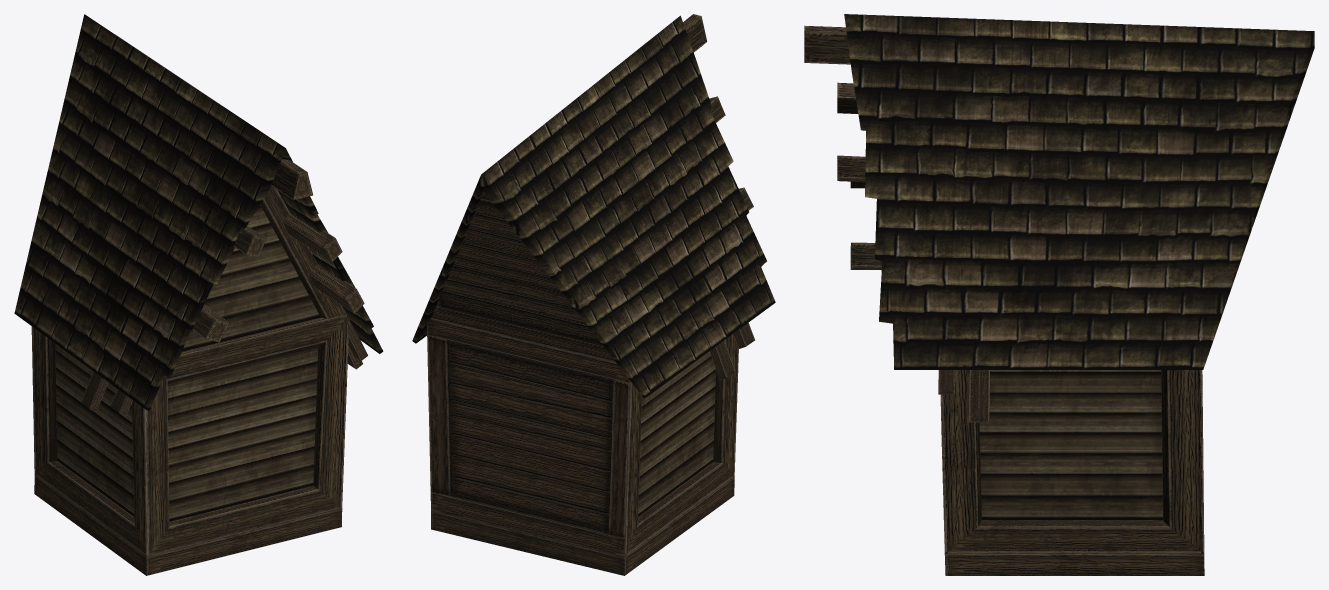
Rendered from Window_c01.fbx.
The picture shows the model from 3 angles, left to right: view 1: azimuth 30°, elevation 25°; view 2: azimuth 150°, elevation 25°; view 3: azimuth 270°, elevation 25°; orthographic projection. The views are drawn at different scales.
Visible parts, largest first — view 1: Window_c01; view 2: Window_c01; view 3: Window_c01.
Boxes of the visible parts, x1,y1,x2,y2 form: Window_c01: [14, 14, 383, 575]; Window_c01: [412, 14, 775, 575]; Window_c01: [804, 14, 1314, 575].
Size of the model in its own units: 3.87 by 6.25 by 5.72.
